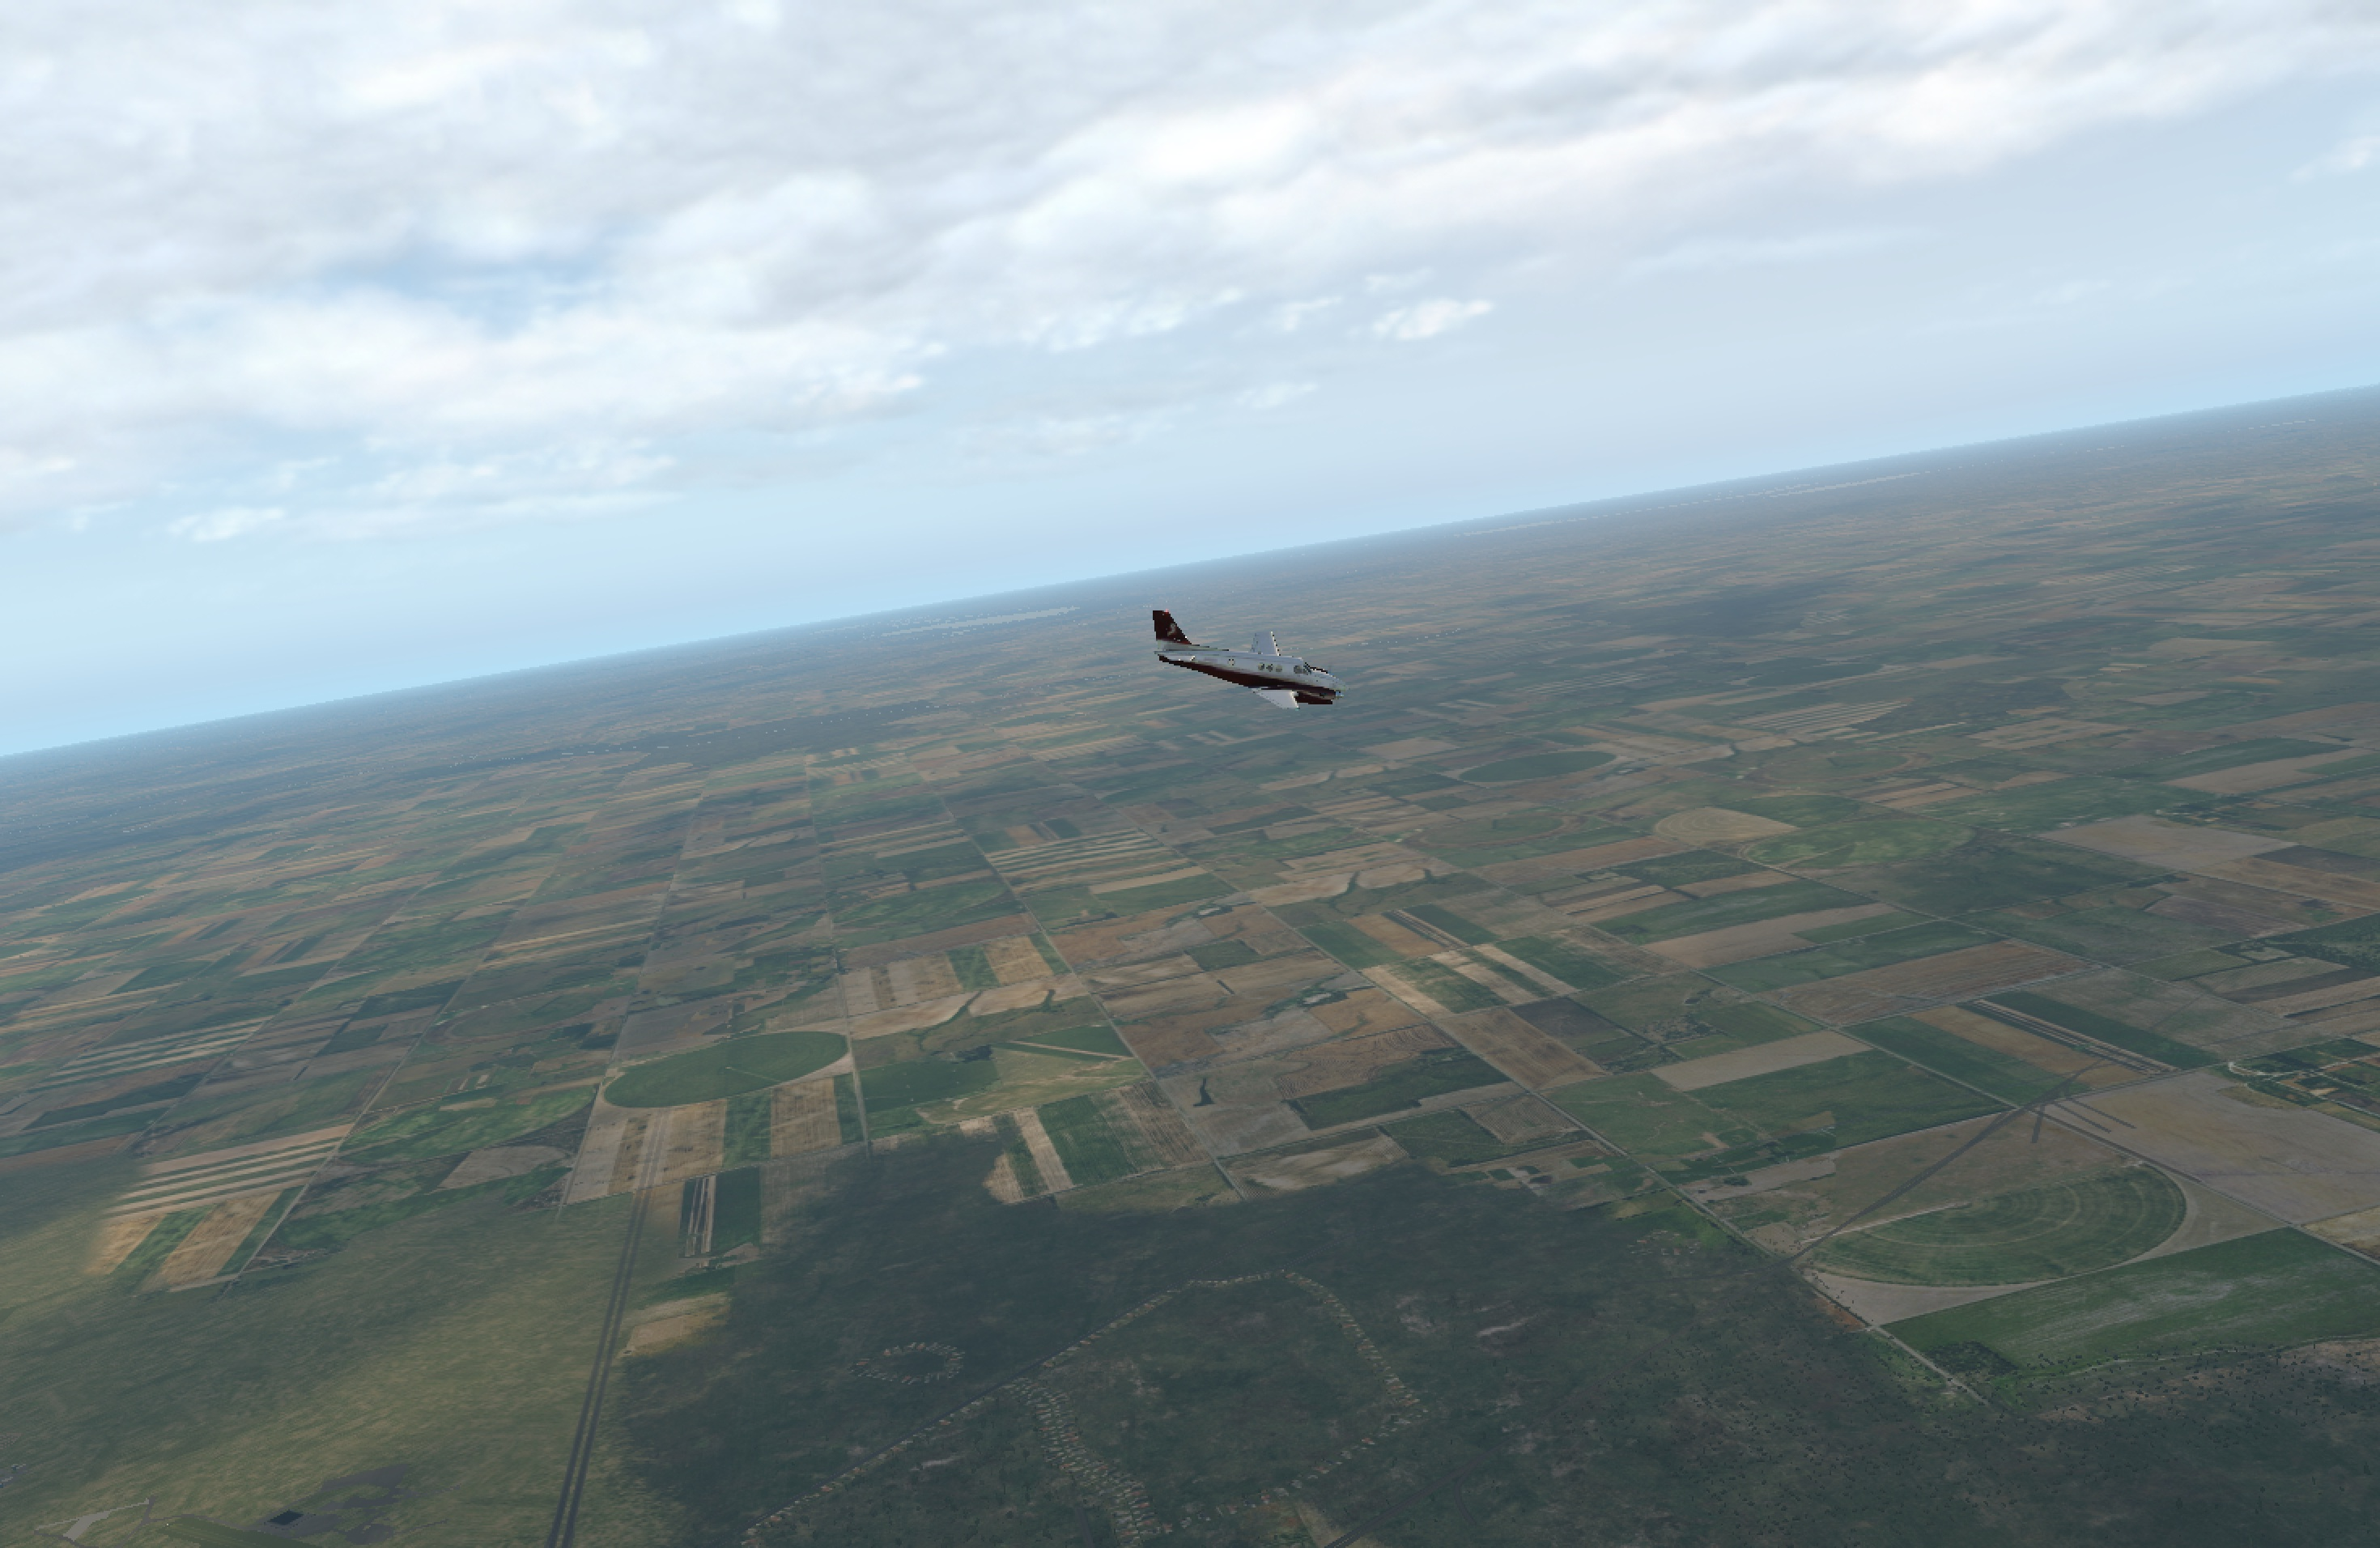aircraft: (1133, 631, 1433, 743)
